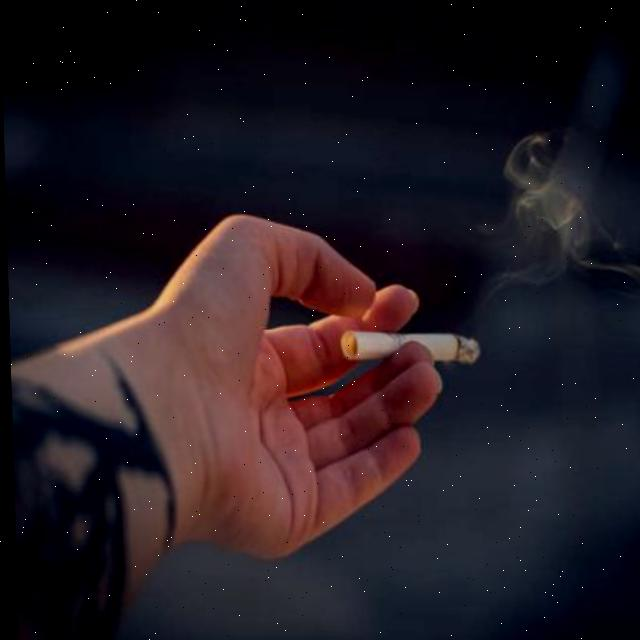cigarette: (338, 328, 482, 367)
